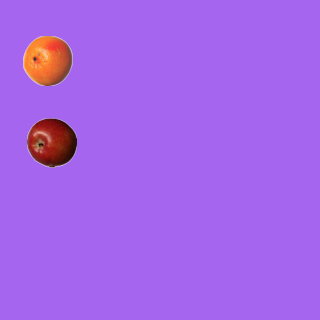Apple Braeburn: (26, 117, 76, 167)
Grapefruit Pink: (22, 35, 72, 85)
